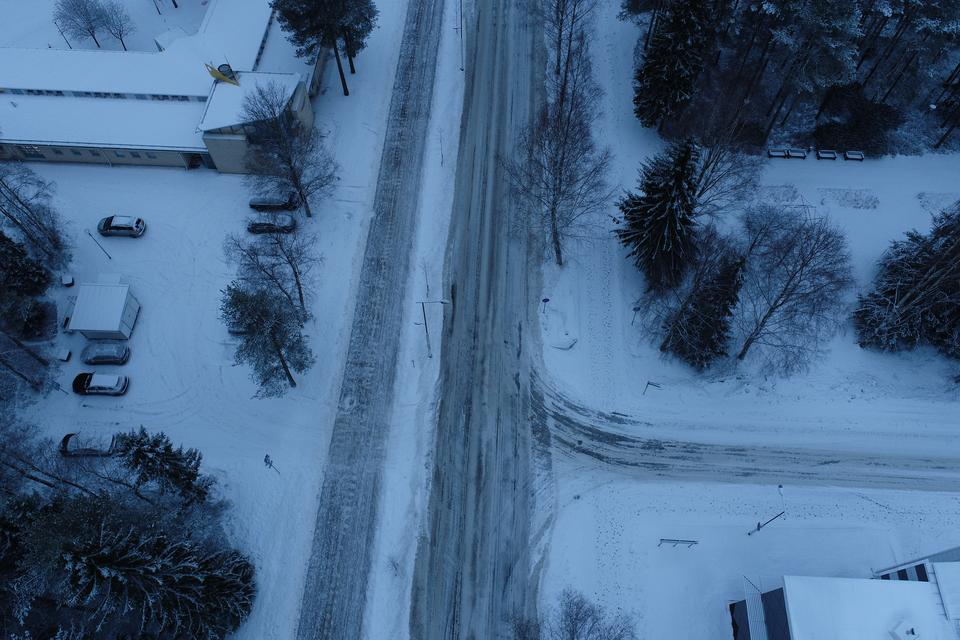intersection: (302, 349, 623, 553)
